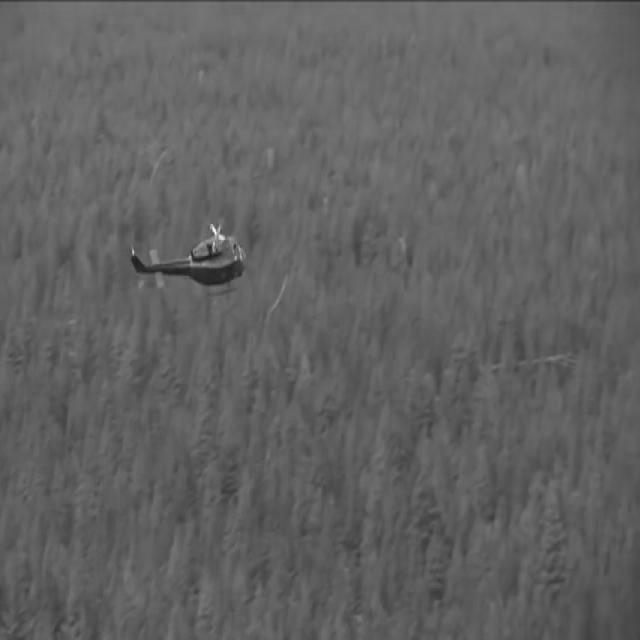helikopter: (125, 218, 254, 310)
